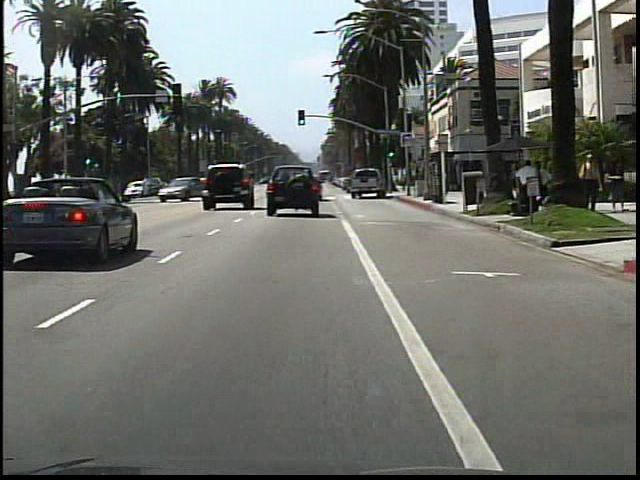person: (513, 157, 539, 219), (577, 151, 601, 214), (532, 158, 555, 219)
